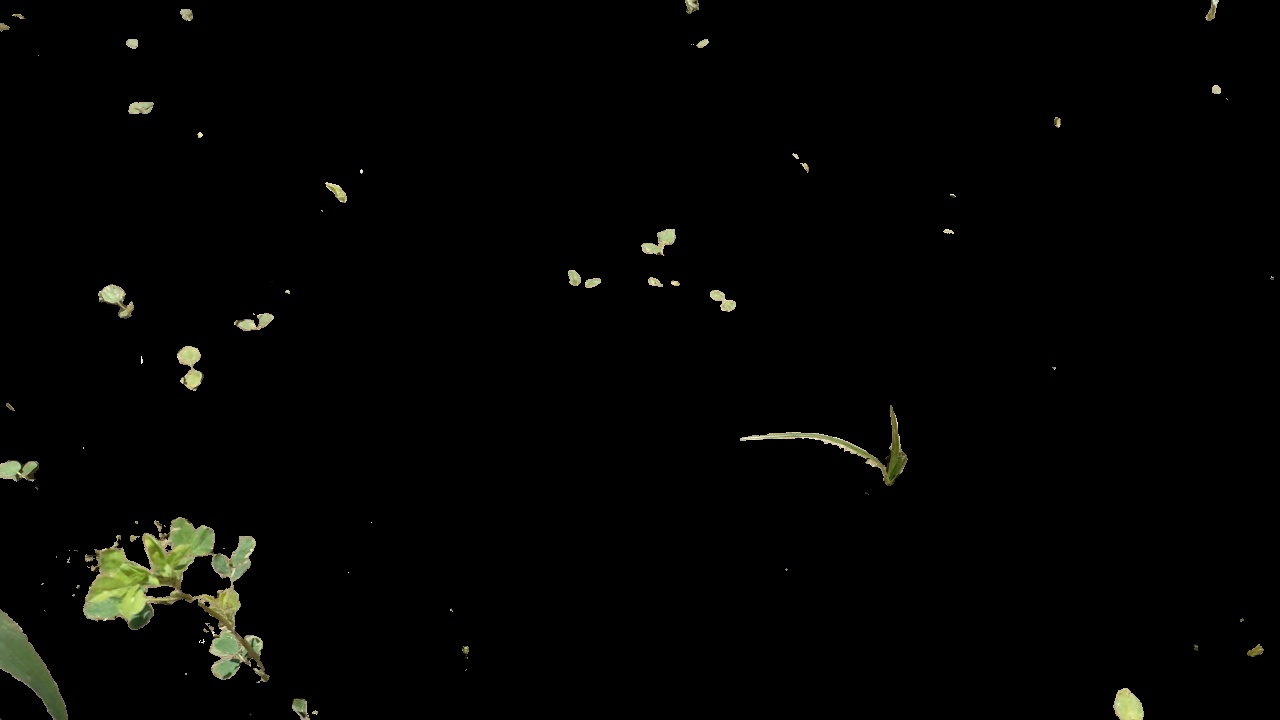weed: (69, 513, 291, 682), (742, 387, 909, 491), (88, 278, 145, 324), (632, 222, 682, 263), (171, 337, 201, 398), (1, 451, 46, 491), (562, 266, 601, 300), (233, 304, 281, 331), (1110, 691, 1154, 720), (704, 283, 741, 317), (323, 181, 354, 210), (123, 101, 163, 122), (121, 35, 142, 48)
